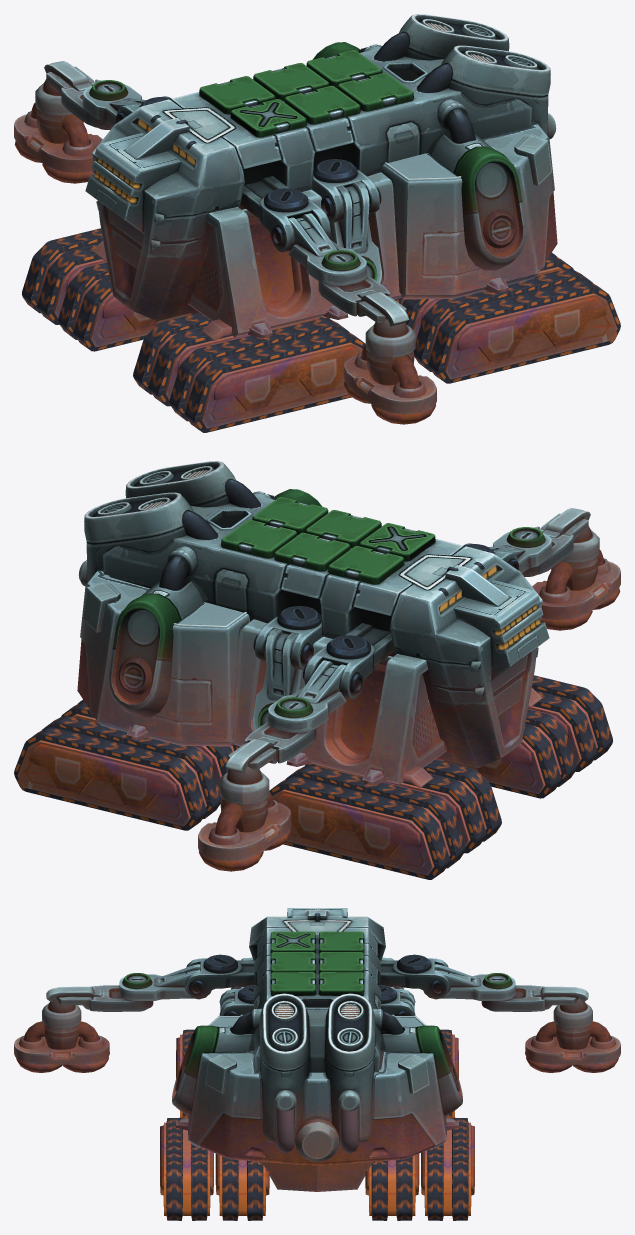
The model's file is ImperialHarvester_real.fbx.
3 renders of one model, top to bottom at view 1: azimuth 30°, elevation 25°; view 2: azimuth 150°, elevation 25°; view 3: azimuth 270°, elevation 25°, orthographic. The views are drawn at different scales.
Parts seen in each view (by area): view 1: Harvester; view 2: Harvester; view 3: Harvester.
Boxes of the visible parts, x1=… form: Harvester: x1=14, y1=14, x2=620, y2=432; Harvester: x1=14, y1=461, x2=620, y2=879; Harvester: x1=14, y1=908, x2=620, y2=1220.
Size of the model in its own units: 2.9 by 4.63 by 1.67.
